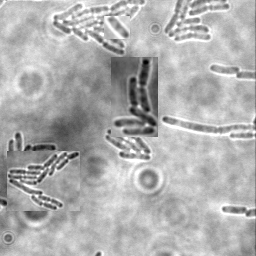Dividing: (161, 114, 255, 133), (221, 204, 248, 215)
Microcolony: (51, 1, 147, 56), (7, 151, 80, 211), (111, 57, 158, 137), (162, 1, 231, 44), (106, 124, 153, 160), (8, 130, 72, 150), (208, 63, 240, 74)
Rod: (104, 16, 130, 39)
